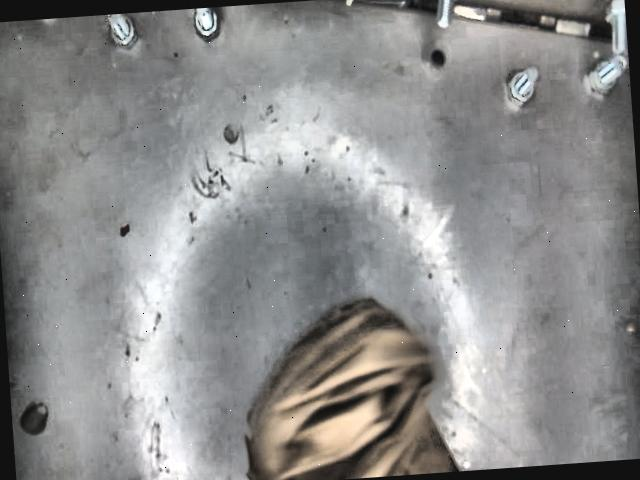Paper: (239, 294, 458, 480)
